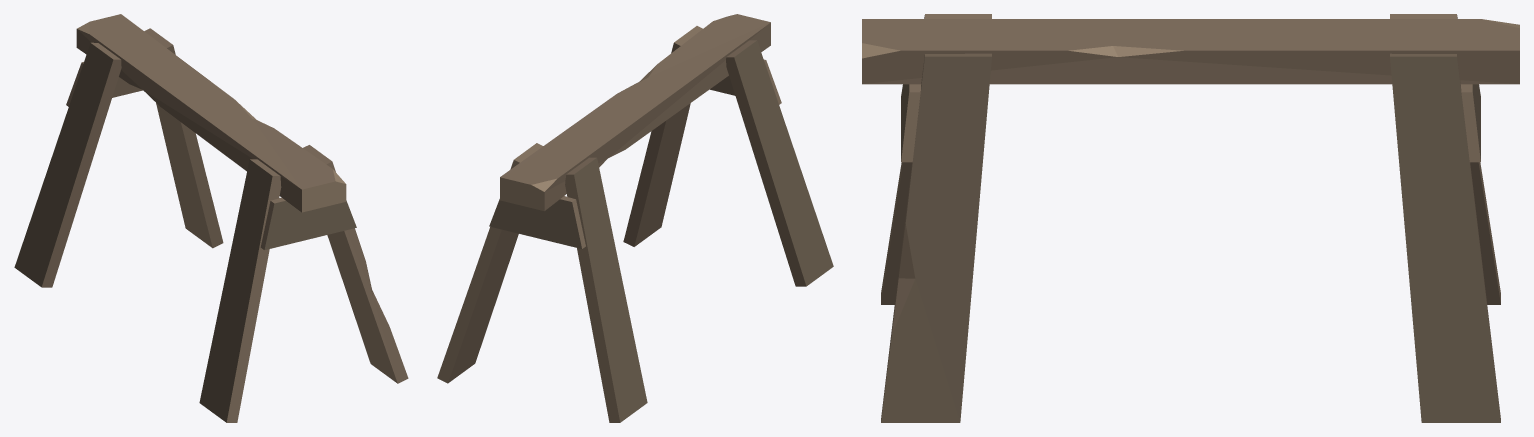
Rendered from SM_Prop_Sawhorse_01.glb.
3 renders of one model, left to right at view 1: azimuth 30°, elevation 25°; view 2: azimuth 150°, elevation 25°; view 3: azimuth 270°, elevation 25°, orthographic. The views are drawn at different scales.
Parts seen in each view (by area): view 1: SM_Prop_Sawhorse_01; view 2: SM_Prop_Sawhorse_01; view 3: SM_Prop_Sawhorse_01.
Boxes of the visible parts, x1=… form: SM_Prop_Sawhorse_01: x1=14, y1=14, x2=408, y2=422; SM_Prop_Sawhorse_01: x1=437, y1=14, x2=833, y2=422; SM_Prop_Sawhorse_01: x1=862, y1=14, x2=1519, y2=422.
Size of the model in its own units: 0.7216 by 0.8487 by 1.55.
Materials: 1 (1 with a texture image).
